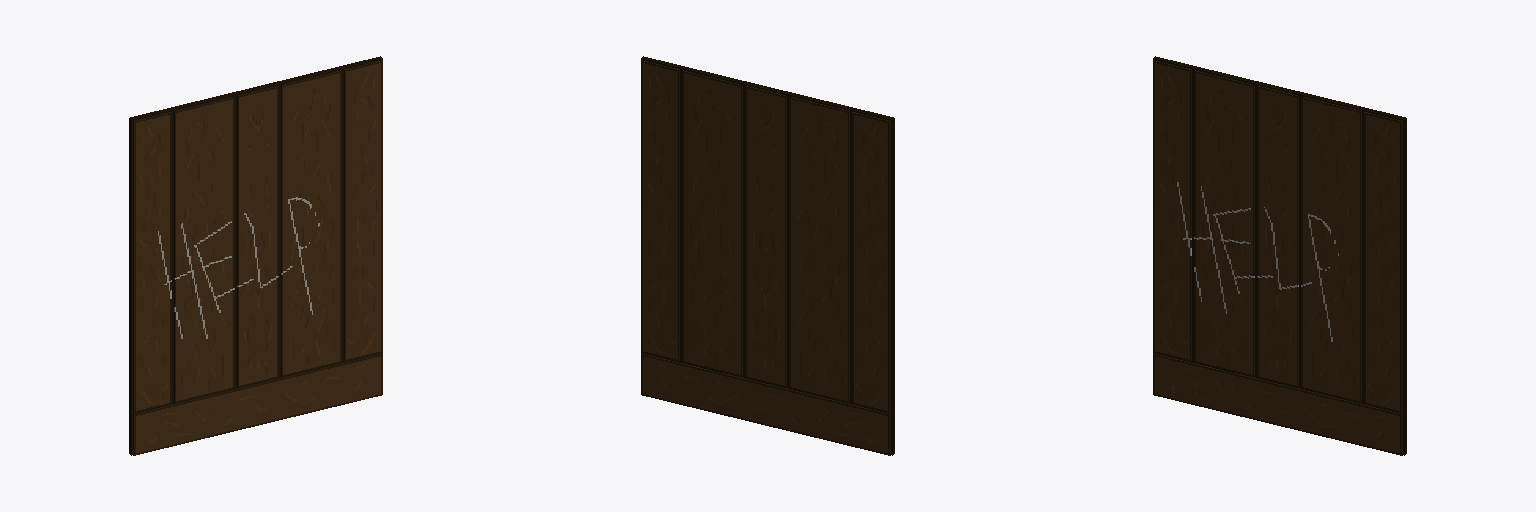
3 views of the same model, side by side, from view 1: azimuth 30°, elevation 25°; view 2: azimuth 150°, elevation 25°; view 3: azimuth 330°, elevation 25° (orthographic).
Parts seen in each view (by area): view 1: object 1; view 2: object 1; view 3: object 1.
Part boxes in pixels (x1,y1,x2,y2): object 1: (129, 56, 382, 455); object 1: (641, 56, 894, 455); object 1: (1153, 56, 1406, 455).
Size of the model in its own units: 16 by 20.4 by 0.5.
1 materials, 1 textured.